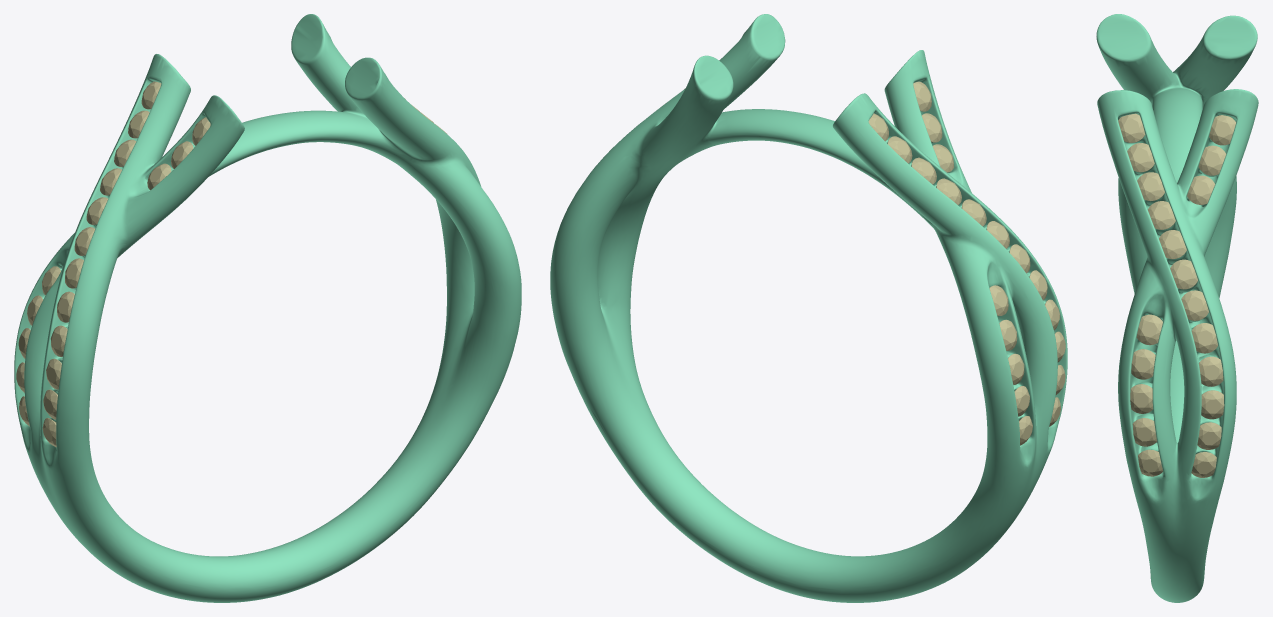
The picture shows the model from 3 angles, left to right: view 1: azimuth 30°, elevation 25°; view 2: azimuth 150°, elevation 25°; view 3: azimuth 270°, elevation 25°; orthographic projection. The views are drawn at different scales.
Visible parts, largest first — view 1: Metal02; view 2: Metal02; view 3: Metal02, Diamond_Gem .030, Diamond_Gem .038, Diamond_Gem .039, Diamond_Gem .022, Diamond_Gem .029, Diamond_Gem .031, Diamond_Gem .028, Diamond_Gem .021, Diamond_Gem .037, Diamond_Gem .020, Diamond_Gem .024 (+9 smaller).
Boxes of the visible parts, x1,y1,x2,y2 form: Metal02: [14, 14, 521, 602]; Metal02: [550, 14, 1067, 602]; Metal02: [1096, 14, 1258, 602]; Diamond_Gem .030: [1191, 323, 1217, 353]; Diamond_Gem .038: [1131, 349, 1155, 379]; Diamond_Gem .039: [1136, 314, 1162, 345]; Diamond_Gem .022: [1209, 115, 1235, 145]; Diamond_Gem .029: [1181, 290, 1208, 320]; Diamond_Gem .031: [1199, 356, 1223, 386]; Diamond_Gem .028: [1170, 259, 1197, 289]; Diamond_Gem .021: [1198, 145, 1226, 175]; Diamond_Gem .037: [1130, 384, 1152, 413]; Diamond_Gem .020: [1187, 175, 1215, 204]; Diamond_Gem .024: [1127, 143, 1154, 172].
Bounding box in the file's own units: 21.02 × 22.83 × 6.36.
